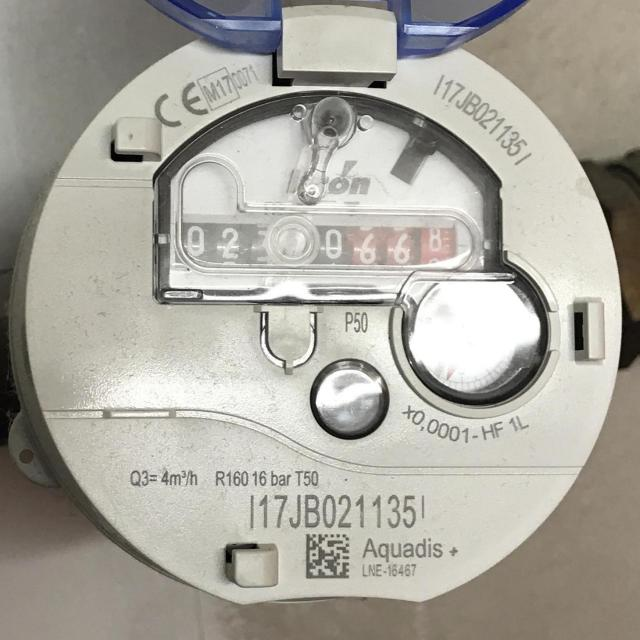gaz_meter: (11, 19, 622, 598)
indication: (181, 214, 467, 271)
